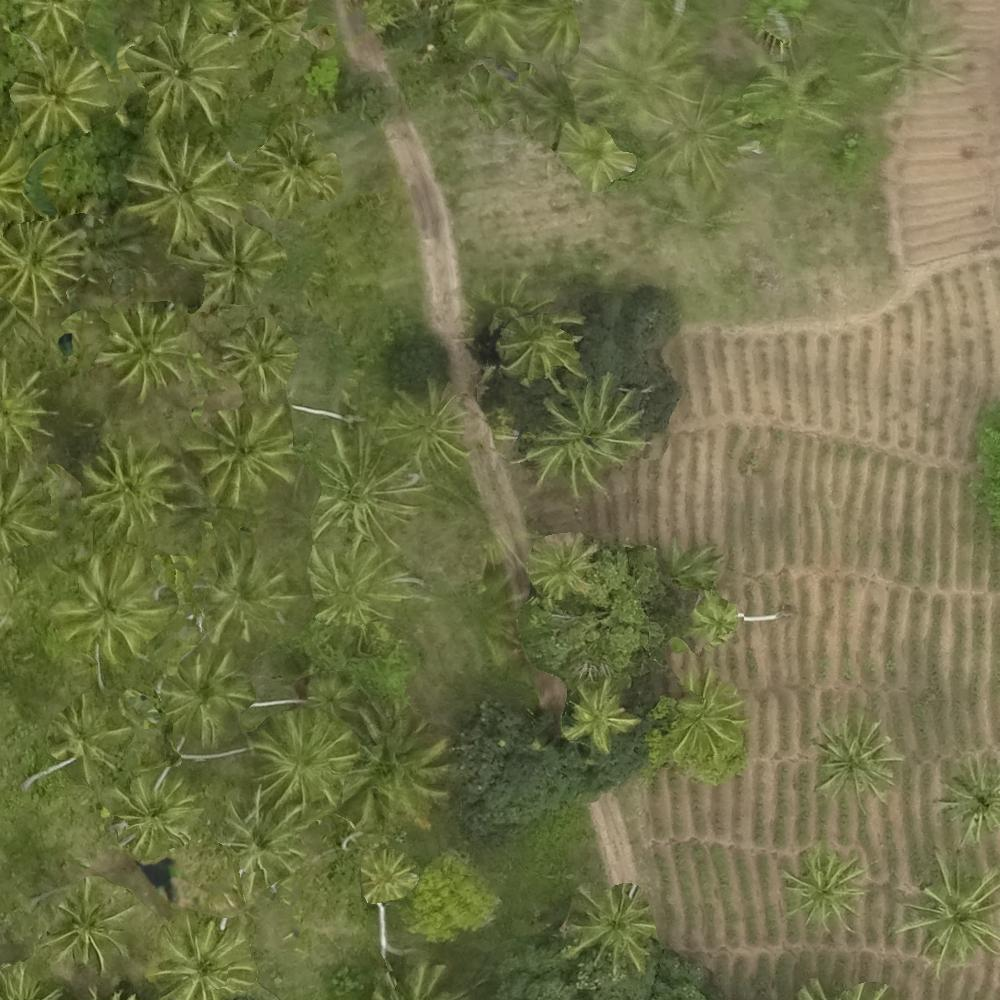Palm: (535, 380, 650, 491), (346, 706, 447, 830), (127, 135, 240, 241), (897, 849, 1000, 965), (310, 430, 413, 541), (55, 555, 157, 658), (218, 792, 316, 892), (184, 409, 291, 500), (127, 30, 233, 121), (253, 712, 349, 807), (559, 880, 657, 973), (149, 916, 250, 1000), (9, 42, 103, 132), (310, 546, 410, 630), (812, 715, 903, 805), (382, 383, 471, 473), (199, 544, 286, 636), (82, 441, 171, 526), (44, 878, 132, 962), (785, 841, 865, 927), (4, 219, 83, 306), (102, 306, 184, 388), (164, 656, 248, 735), (112, 773, 198, 850), (670, 676, 747, 762), (253, 124, 340, 199), (195, 230, 278, 306), (47, 699, 125, 775), (562, 680, 635, 755), (940, 749, 1000, 840), (218, 323, 293, 394), (530, 538, 596, 592), (361, 848, 413, 899)
